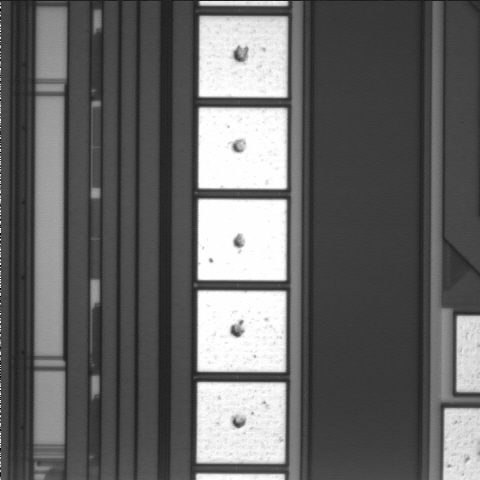pad: (199, 16, 288, 98), (198, 199, 287, 281), (197, 290, 286, 372), (197, 382, 286, 464), (198, 108, 287, 189)
